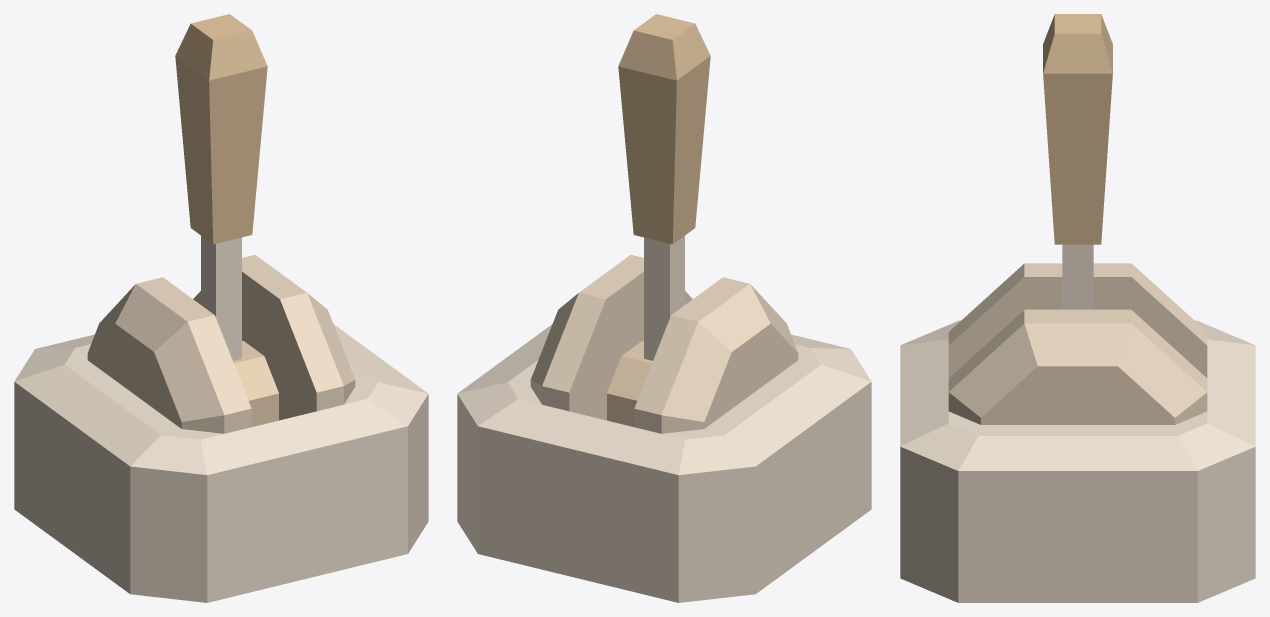
The model's file is Puzzle_Control_Lever.glb.
The picture shows the model from 3 angles, left to right: view 1: azimuth 30°, elevation 25°; view 2: azimuth 150°, elevation 25°; view 3: azimuth 270°, elevation 25°; orthographic projection. The views are drawn at different scales.
Parts seen in each view (by area): view 1: Puzzle_Control_Lever; view 2: Puzzle_Control_Lever; view 3: Puzzle_Control_Lever.
Boxes of the visible parts, x1,y1,x2,y2 form: Puzzle_Control_Lever: [14, 14, 428, 602]; Puzzle_Control_Lever: [457, 14, 871, 602]; Puzzle_Control_Lever: [900, 14, 1255, 602].
Bounding box in the file's own units: 0.55 × 0.86 × 0.55.
